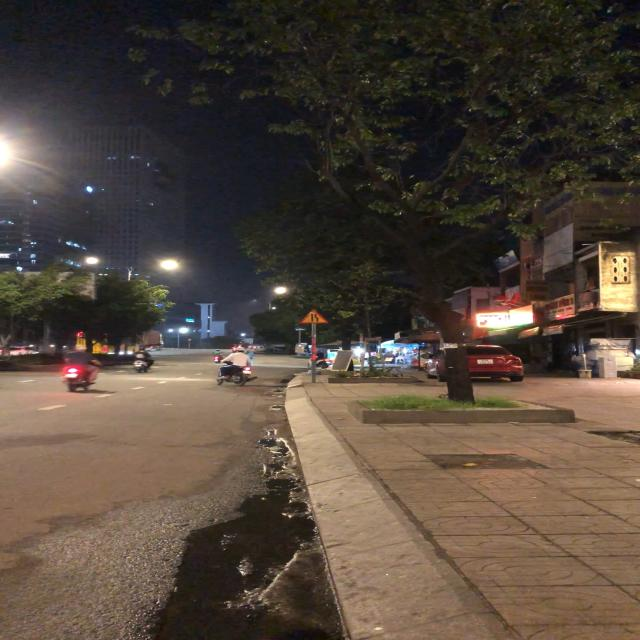Bien bao duong bi thu hep: (296, 307, 332, 325)
